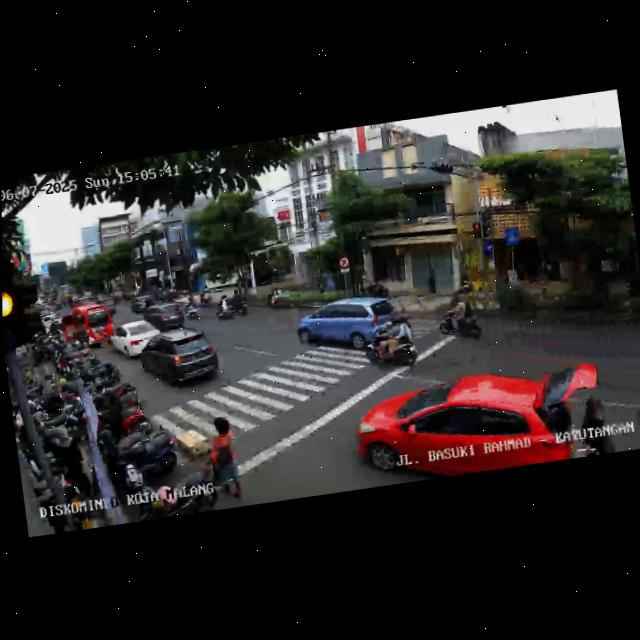car: (350, 355, 609, 488), (292, 289, 413, 367), (139, 323, 224, 392), (57, 302, 115, 352), (108, 316, 164, 362), (139, 300, 187, 334), (630, 374, 640, 447)
motorcycle: (361, 305, 420, 374), (436, 295, 484, 345), (215, 291, 239, 322), (234, 289, 248, 317), (185, 295, 200, 321)
person: (200, 413, 246, 505)
